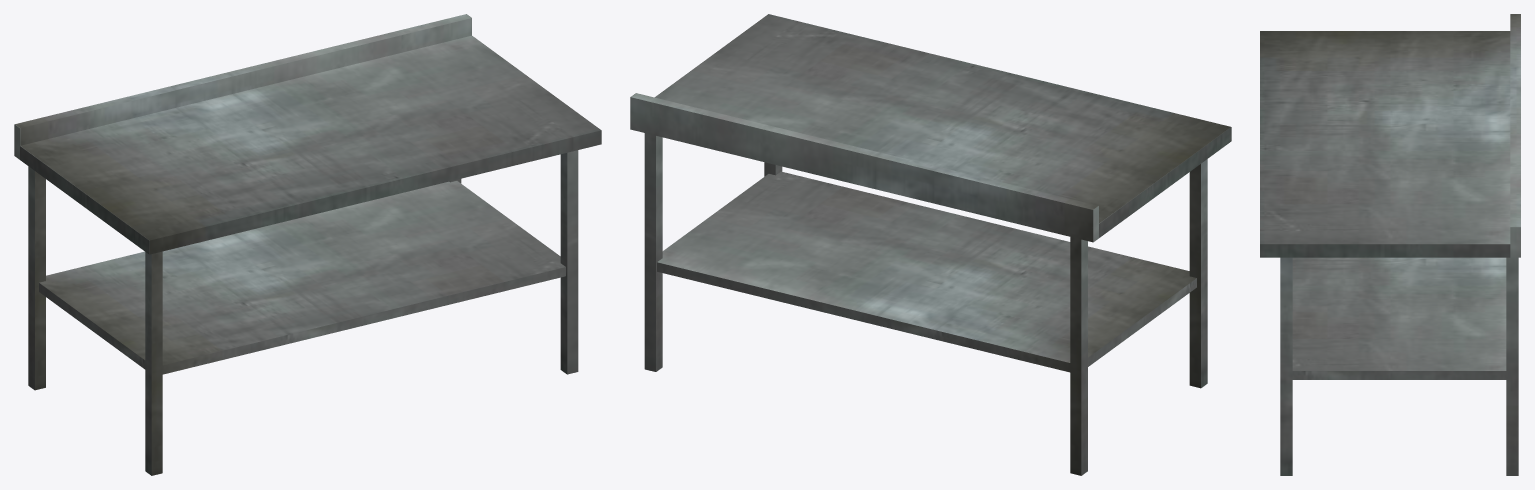
The model's file is TableType1.glb.
3 renders of one model, left to right at view 1: azimuth 30°, elevation 25°; view 2: azimuth 150°, elevation 25°; view 3: azimuth 270°, elevation 25°, orthographic. The views are drawn at different scales.
Visible parts, largest first — view 1: Table_01; view 2: Table_01; view 3: Table_01.
Part boxes in pixels (x1,y1,x2,y2): Table_01: (14,14,601,475); Table_01: (630,14,1231,475); Table_01: (1260,14,1520,475).
Size of the model in its own units: 2.36 by 1.31 by 1.22.
Materials: 1 (1 with a texture image).
